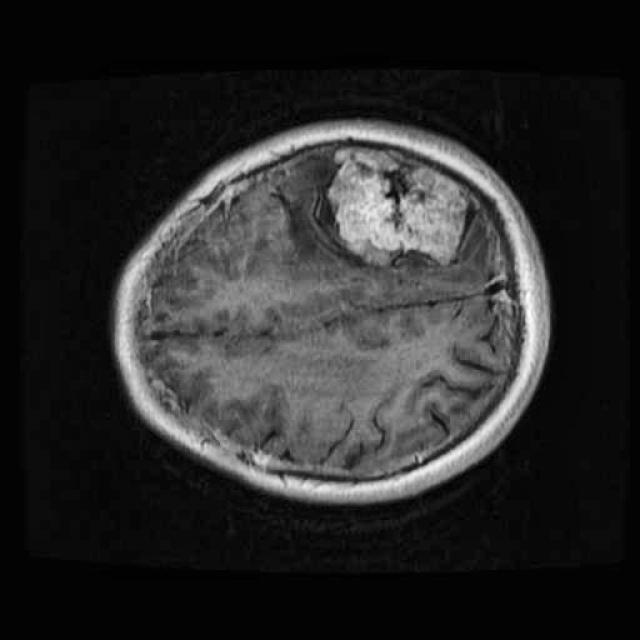Tumor: (318, 135, 479, 275)
